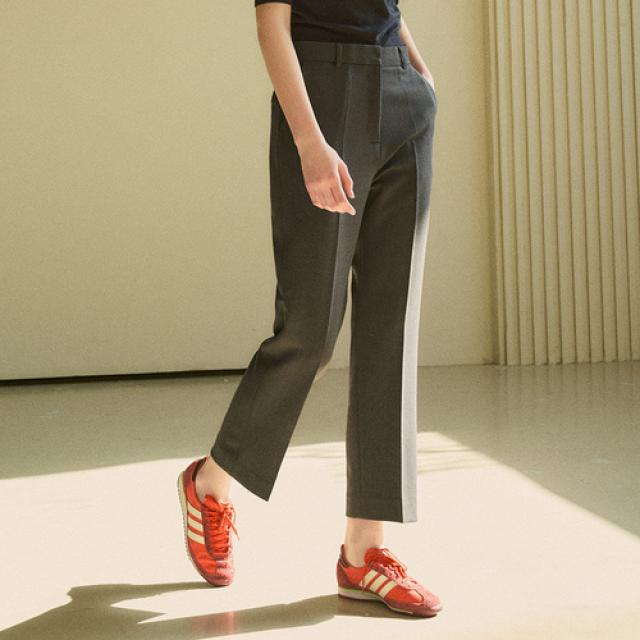Blouse_deep: (220, 27, 434, 526)
